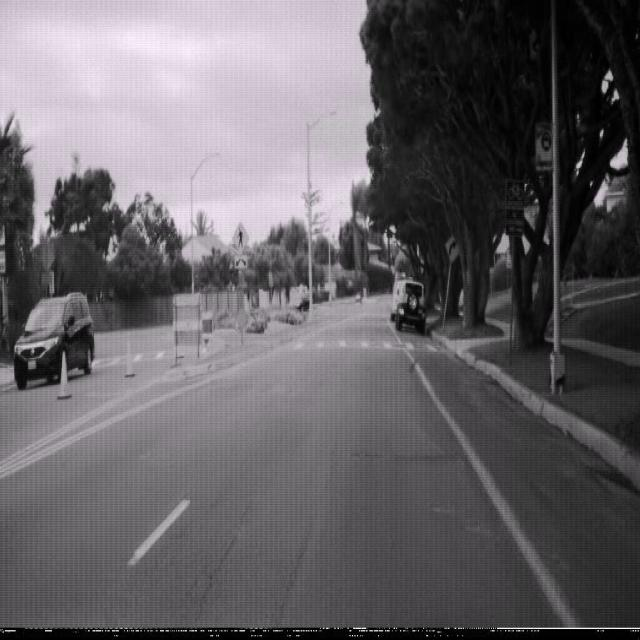pedestrianCrossing: (230, 220, 250, 258)
